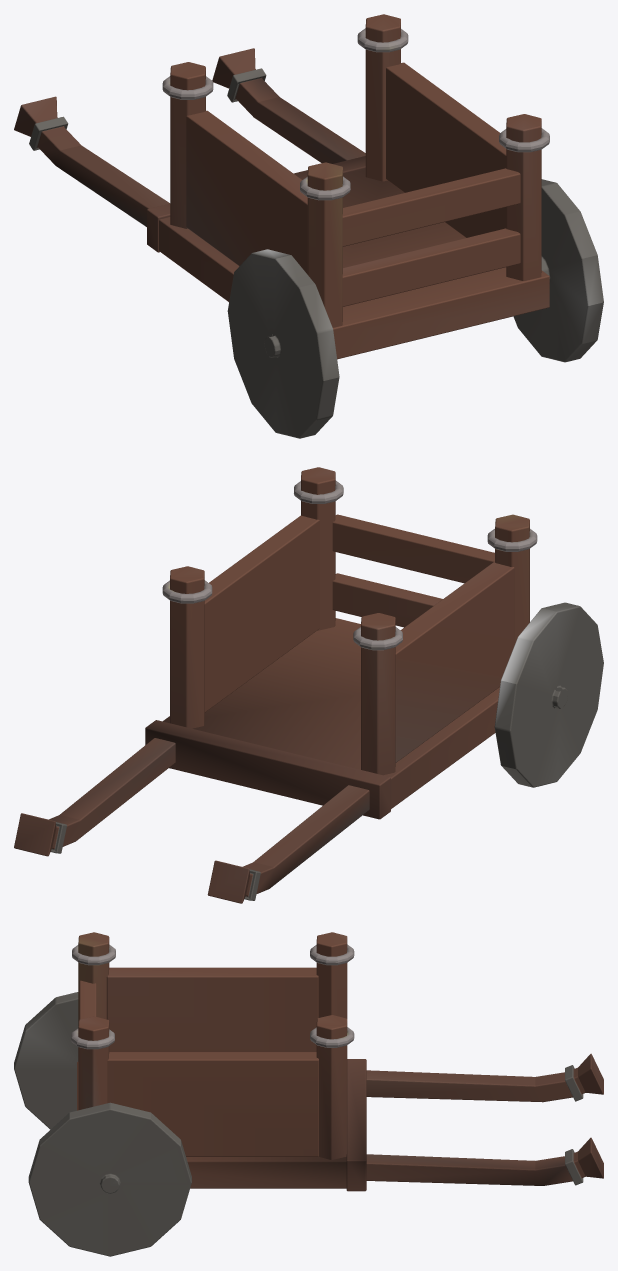
Rendered from Carroca.fbx.
3 views of the same model, one above another, from view 1: azimuth 30°, elevation 25°; view 2: azimuth 150°, elevation 25°; view 3: azimuth 270°, elevation 25° (orthographic). The views are drawn at different scales.
Parts seen in each view (by area): view 1: Carroca; view 2: Carroca; view 3: Carroca.
Part boxes in pixels (bbox=[...]): Carroca: bbox=[14, 14, 603, 438]; Carroca: bbox=[14, 467, 603, 903]; Carroca: bbox=[14, 932, 603, 1256].
Bounding box in the file's own units: 321 × 258 × 629.
